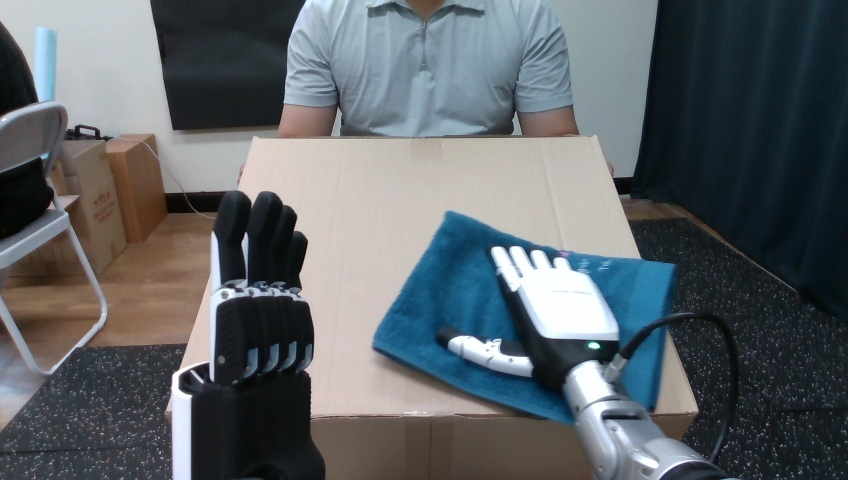left robot hand: (437, 245, 737, 479), (171, 191, 324, 479), (619, 318, 731, 460)
